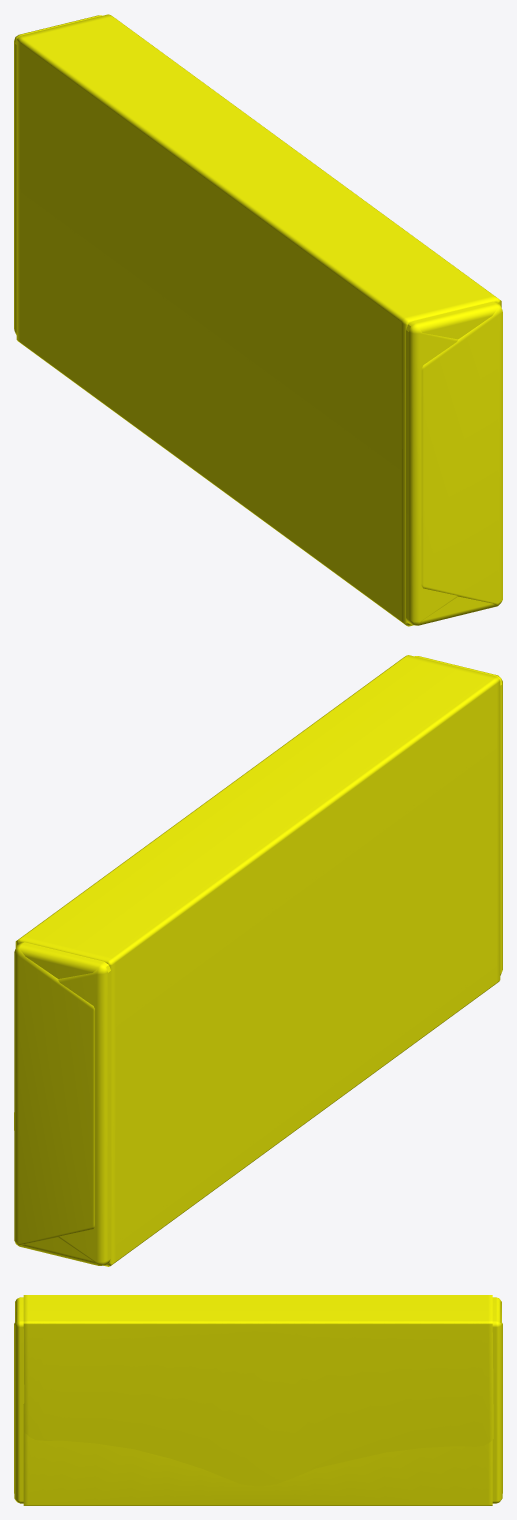
File: trident.glb
3 renders of one model, top to bottom at view 1: azimuth 30°, elevation 25°; view 2: azimuth 150°, elevation 25°; view 3: azimuth 270°, elevation 25°, orthographic. The views are drawn at different scales.
Parts seen in each view (by area): view 1: trident_box_capa_mesh, trident_box_box_mesh; view 2: trident_box_capa_mesh, trident_box_box_mesh; view 3: trident_box_capa_mesh, trident_box_box_mesh.
Boxes of the visible parts, x1,y1,x2,y2 form: trident_box_capa_mesh: (16,14,501,626); trident_box_box_mesh: (14,15,502,625); trident_box_capa_mesh: (14,655,500,1266); trident_box_box_mesh: (14,656,502,1265); trident_box_capa_mesh: (23,1295,493,1505); trident_box_box_mesh: (14,1297,502,1503).
Bounding box in the file's own units: 0.2014 × 0.6035 × 1.45.
1 material, 1 textured.
